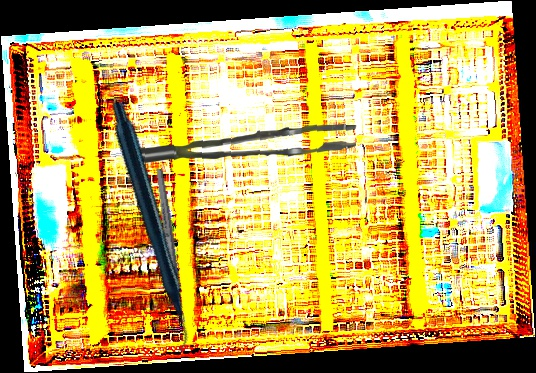Handpiece: (40, 100, 257, 354)
Surgical Spoon: (154, 168, 186, 323)
Tissue Forceps: (134, 117, 357, 170)
